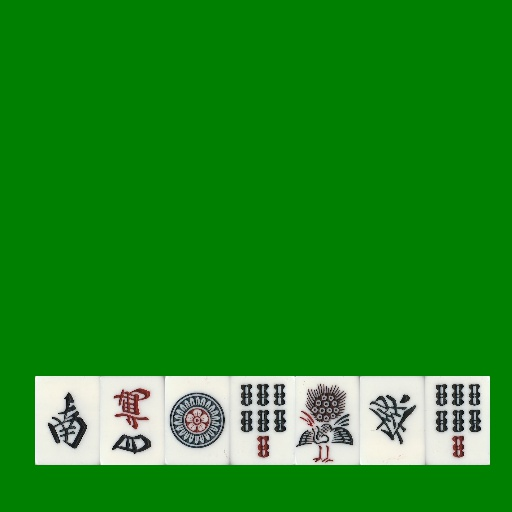1p: (165, 376, 230, 465)
1s: (295, 376, 360, 465)
4m: (100, 376, 165, 465)
7s: (230, 376, 295, 465), (425, 376, 490, 465)
hatsu: (360, 376, 425, 465)
south: (35, 376, 100, 465)
